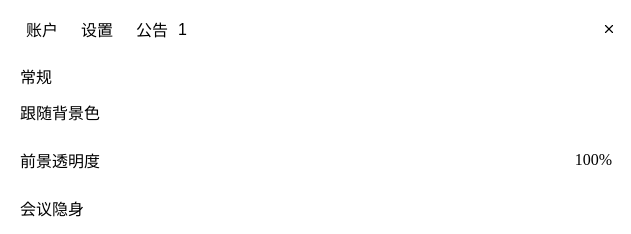
SettingsPanel tabs › switches to the account page when the app provides account capability
The image size is (631, 234).
Step 1. Click the tab "账户" → [42, 29], box [16, 16, 68, 42]
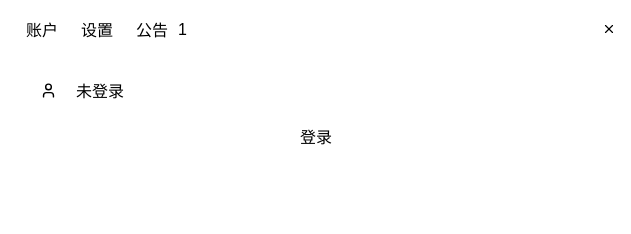
Now the text "未登录" is shown, box [76, 78, 124, 102]
Now the button "登录" is shown, box [18, 130, 614, 146]
